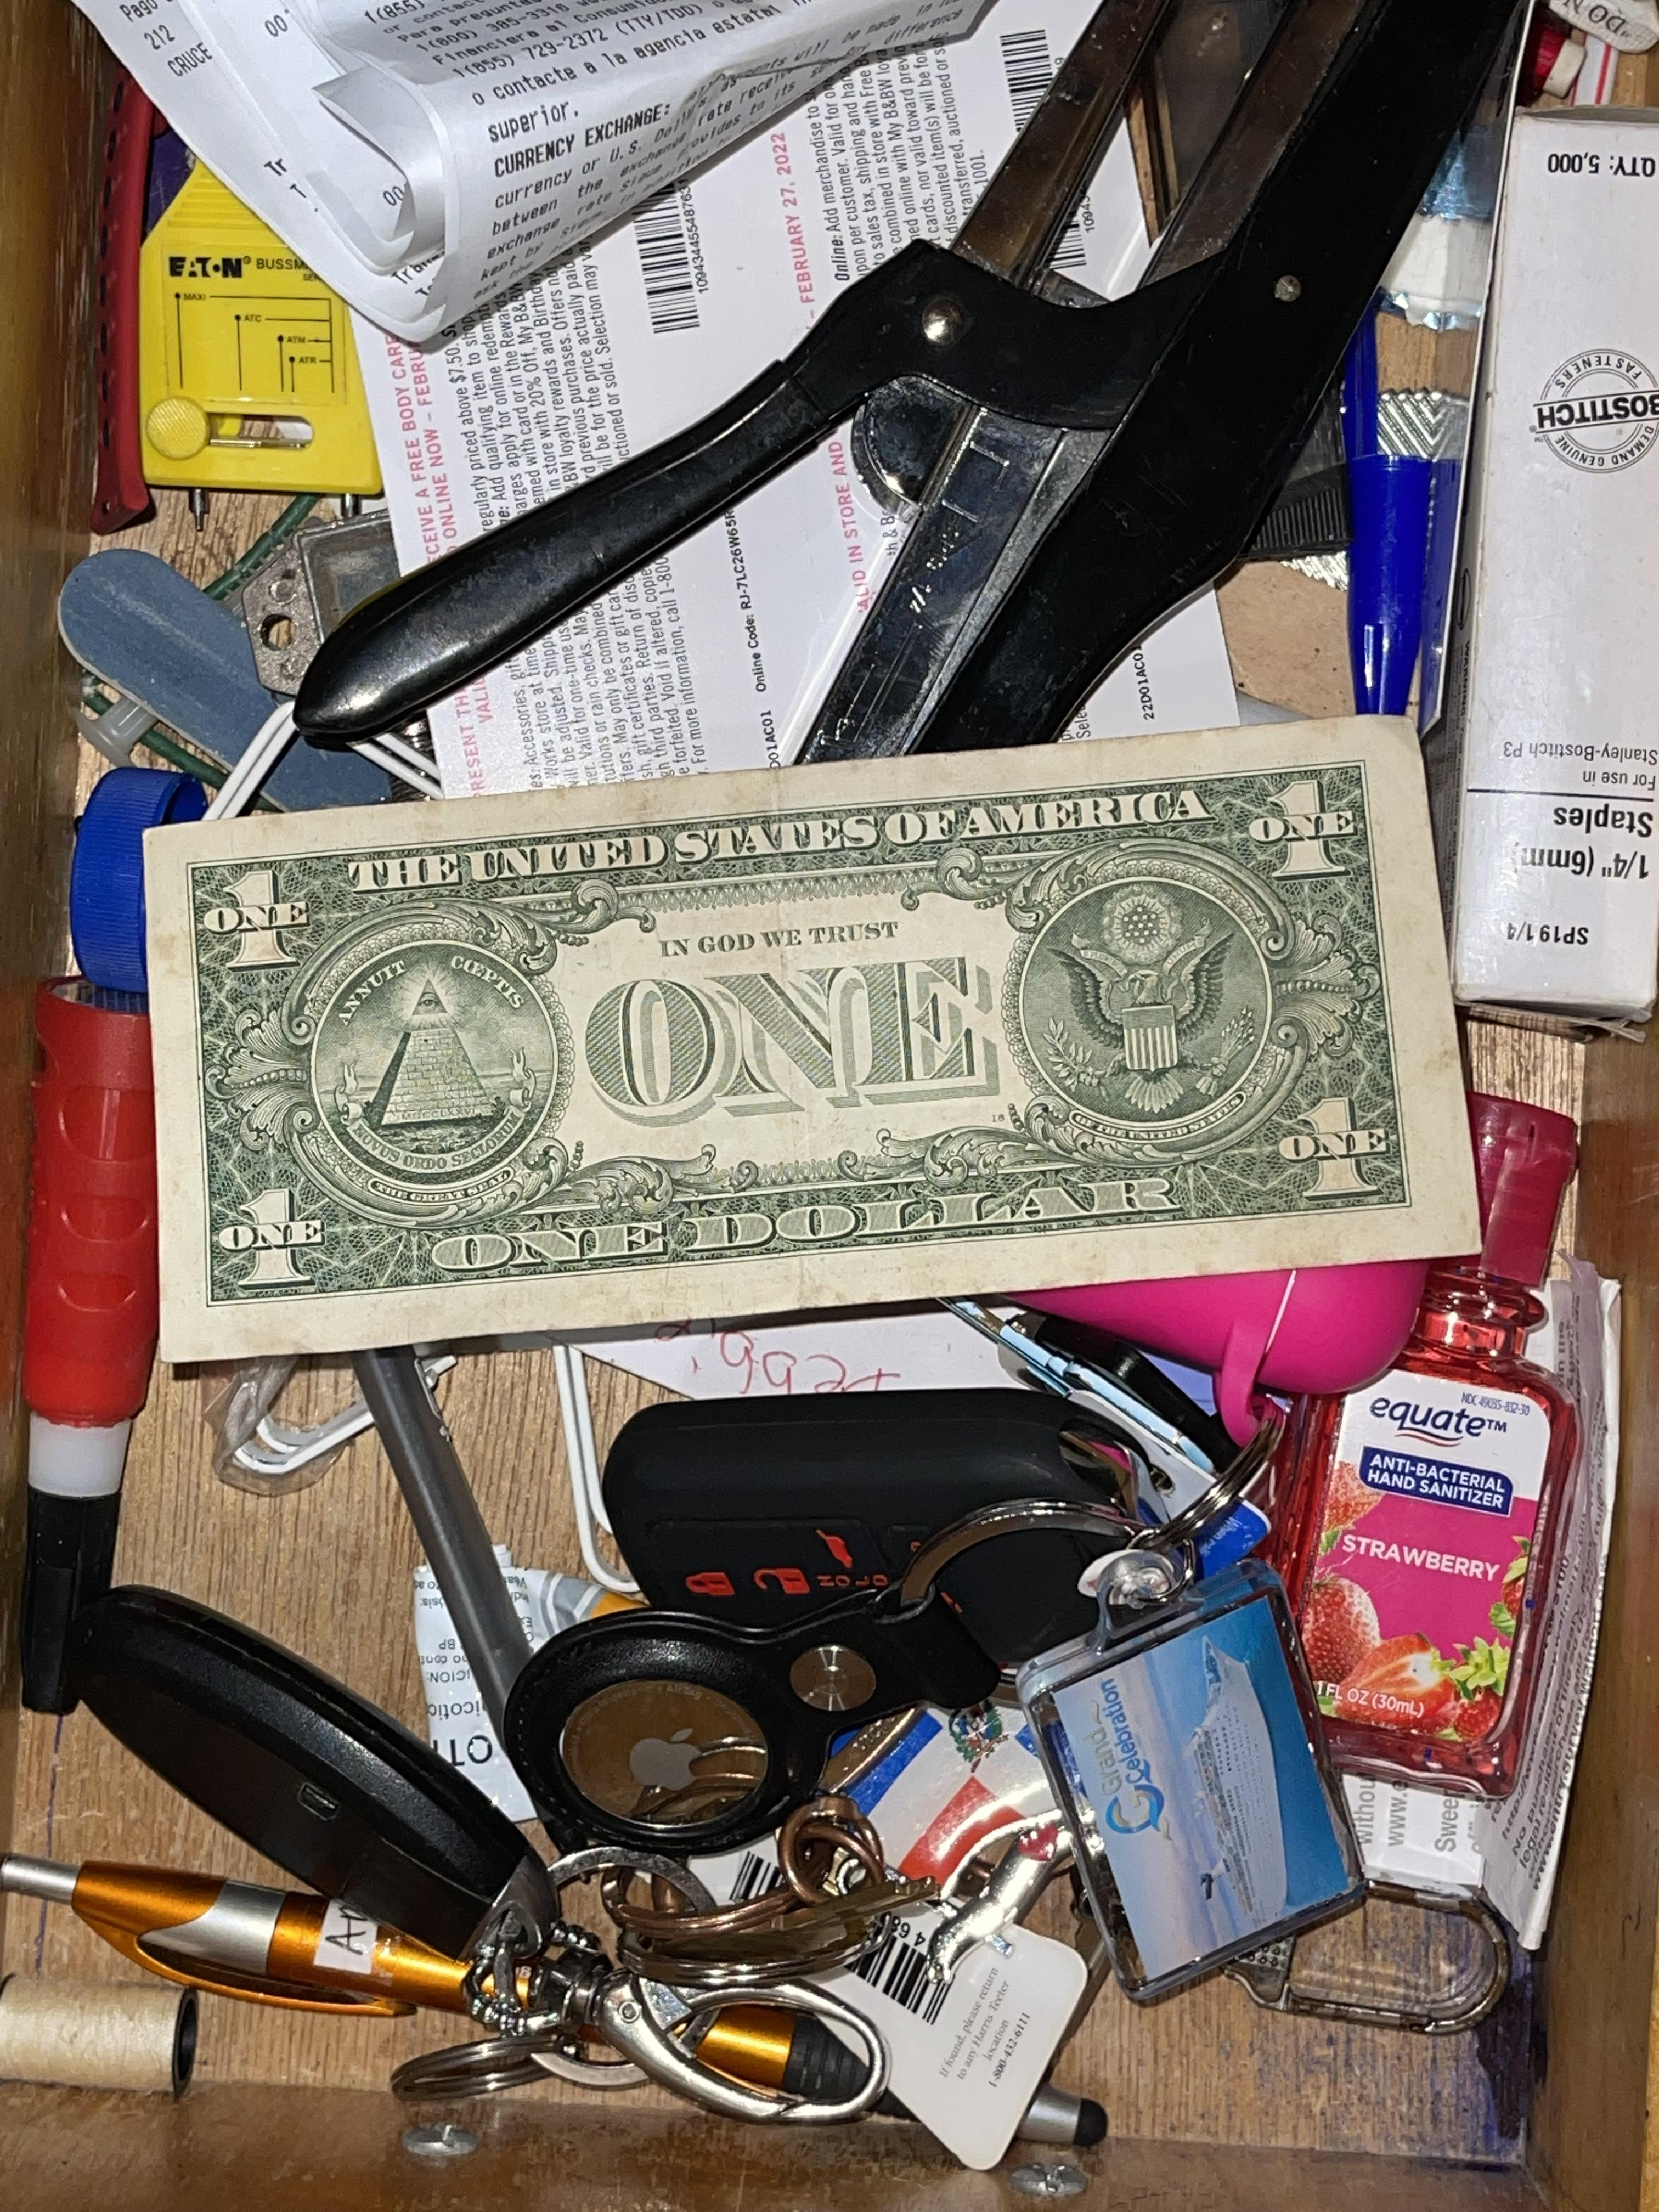OneBill: (136, 714, 1485, 1366)
